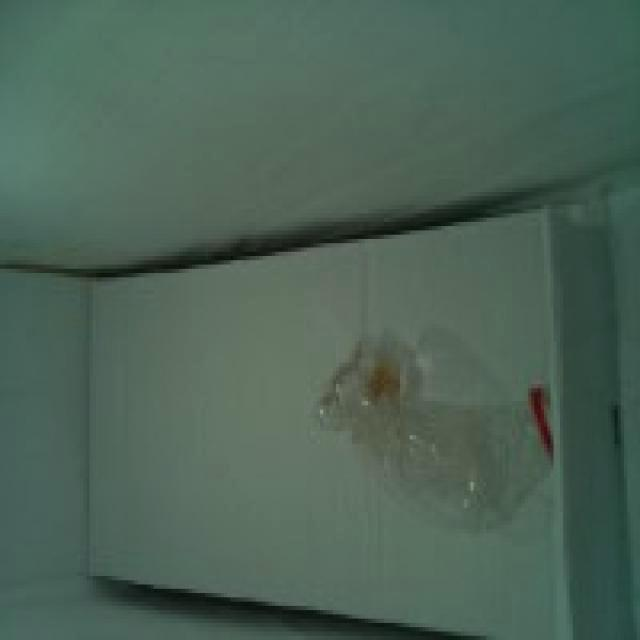bottle: (309, 334, 554, 533)
